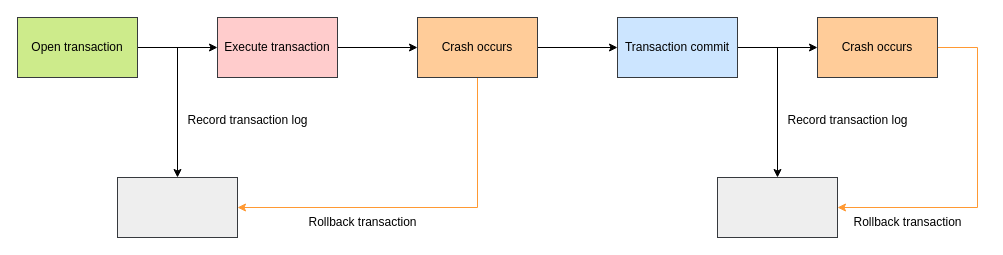
Some shapes in this 1003 by 255 pixel diagram are drawn without their labels. Each missing label, with the box of its shape:
redo log: (716, 176, 838, 238)
undo log: (116, 176, 238, 238)
